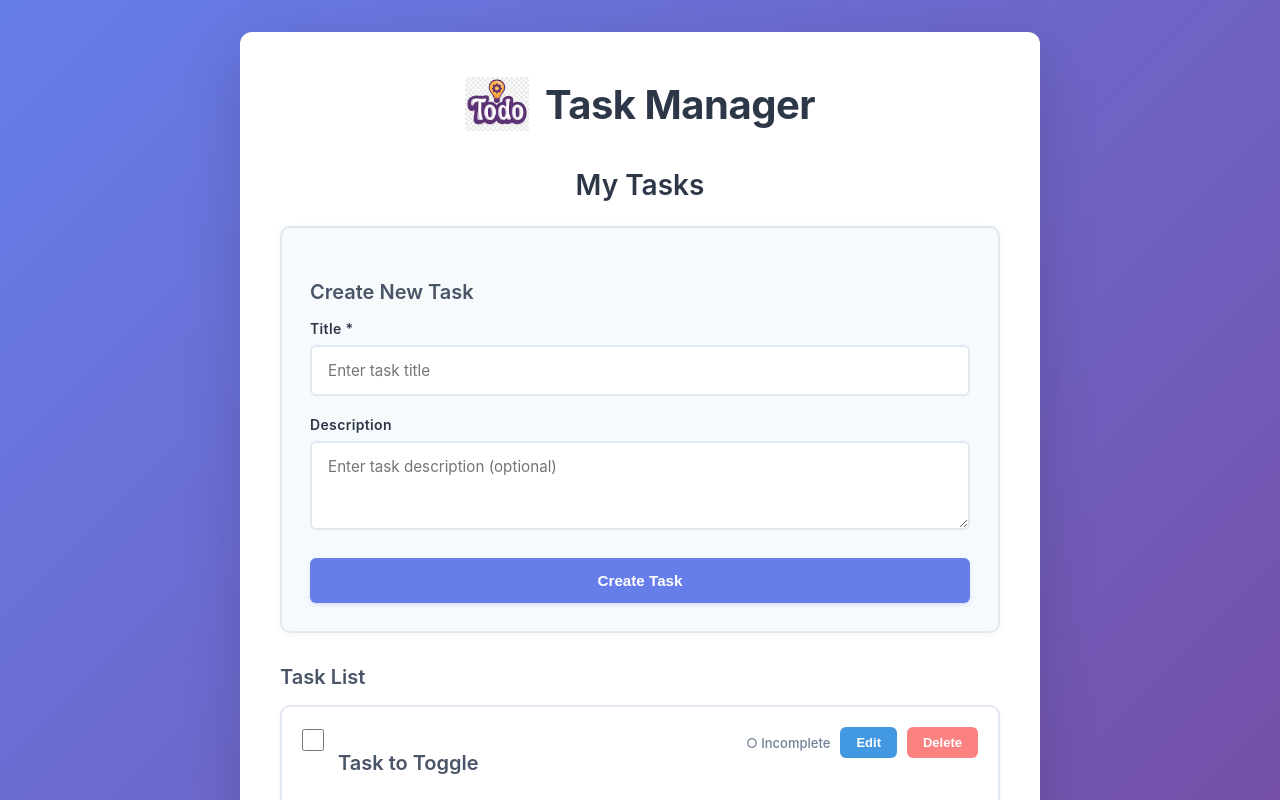
Scenario: App Component › Integration Tests - Complete User Flows › Completion Toggle Flow › should toggle task completion status
Expected: the heading "Task to Toggle" is shown, [338,751,479,775]
Expected: the text "○ Incomplete" is shown, [746,734,830,750]
Click the checkbox named "mark task \"task to toggle\" as complete".
click(313, 740)  # box [302,729,324,751]
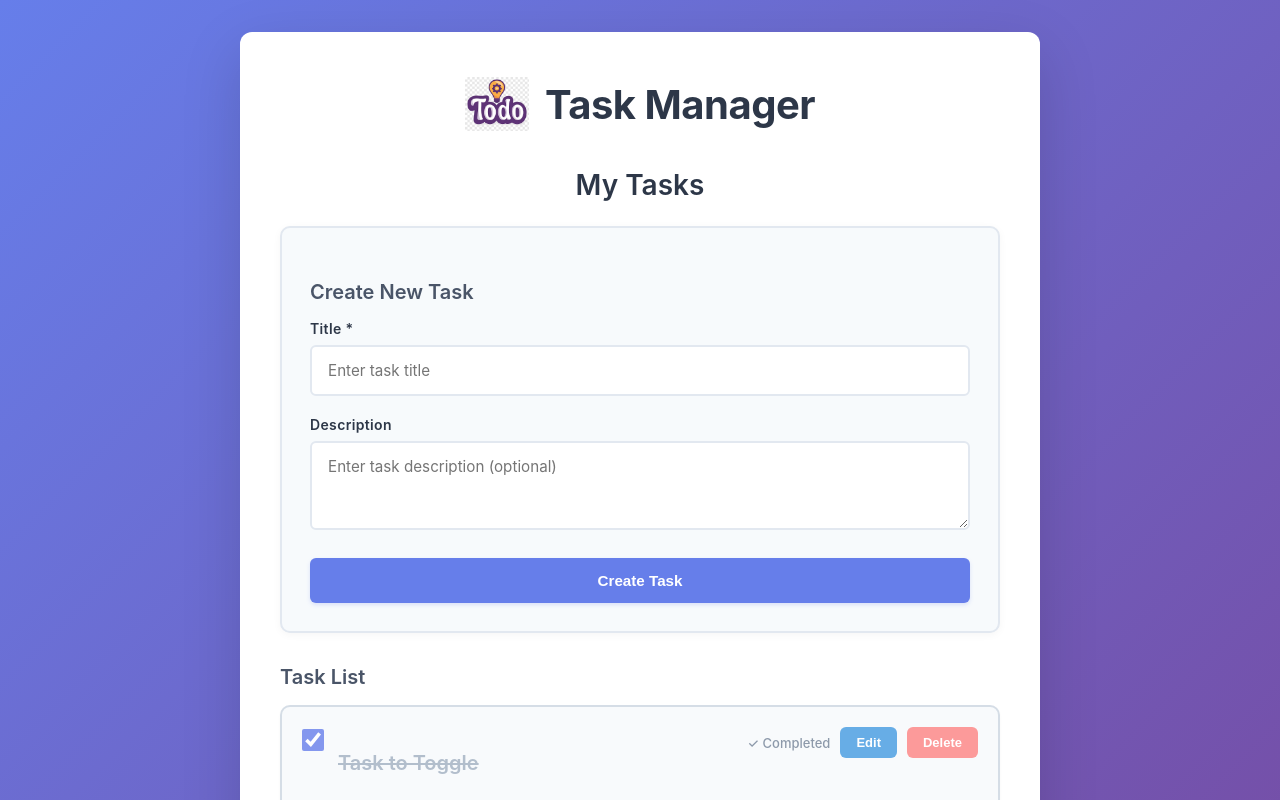
Result: the text "✓ Completed" is shown at [748,734,830,750]
Result: the text "○ Incomplete" is gone
Note: Toggle back
Click the checkbox named "mark task \"task to toggle\" as complete".
click(313, 740)  # box [302,729,324,751]
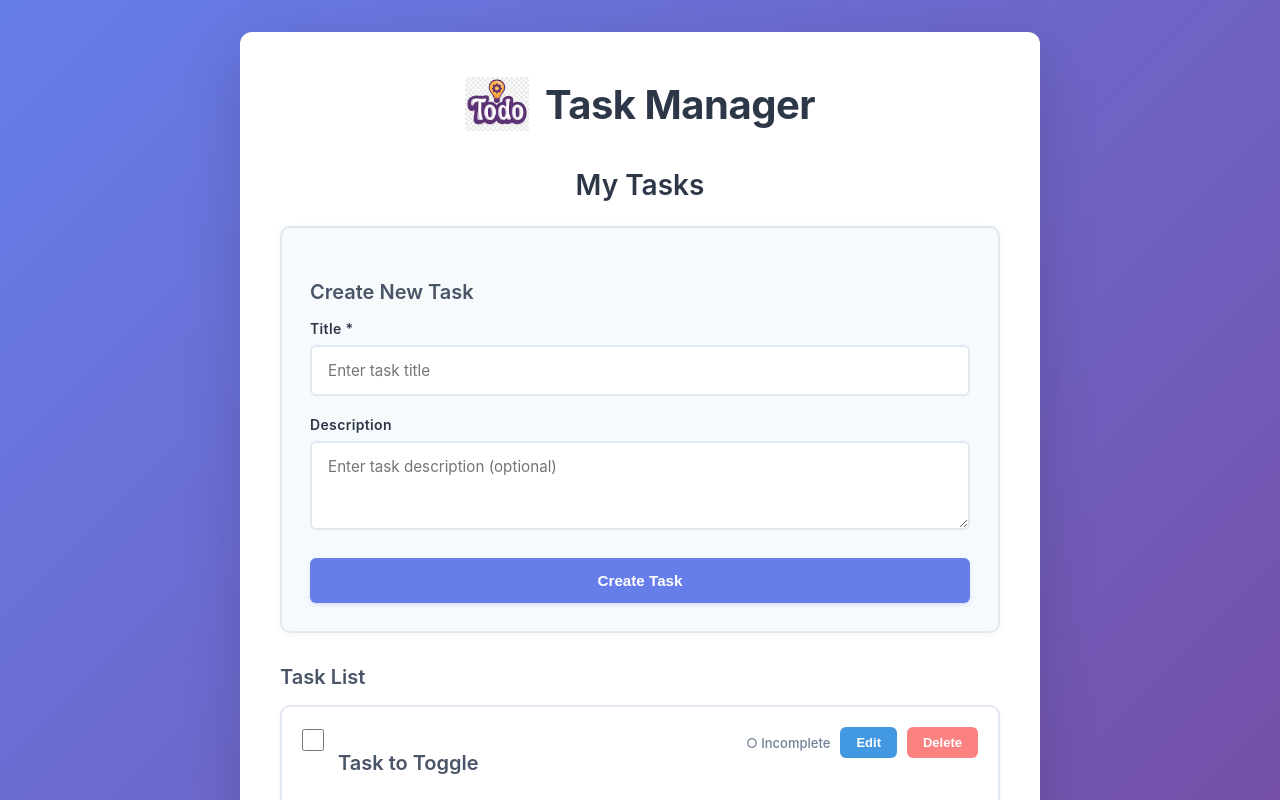
Result: the text "○ Incomplete" is shown at [746,734,830,750]
Result: the text "✓ Completed" is gone
